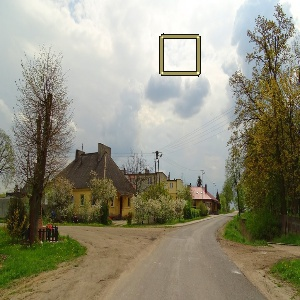square: (156, 31, 204, 80)
